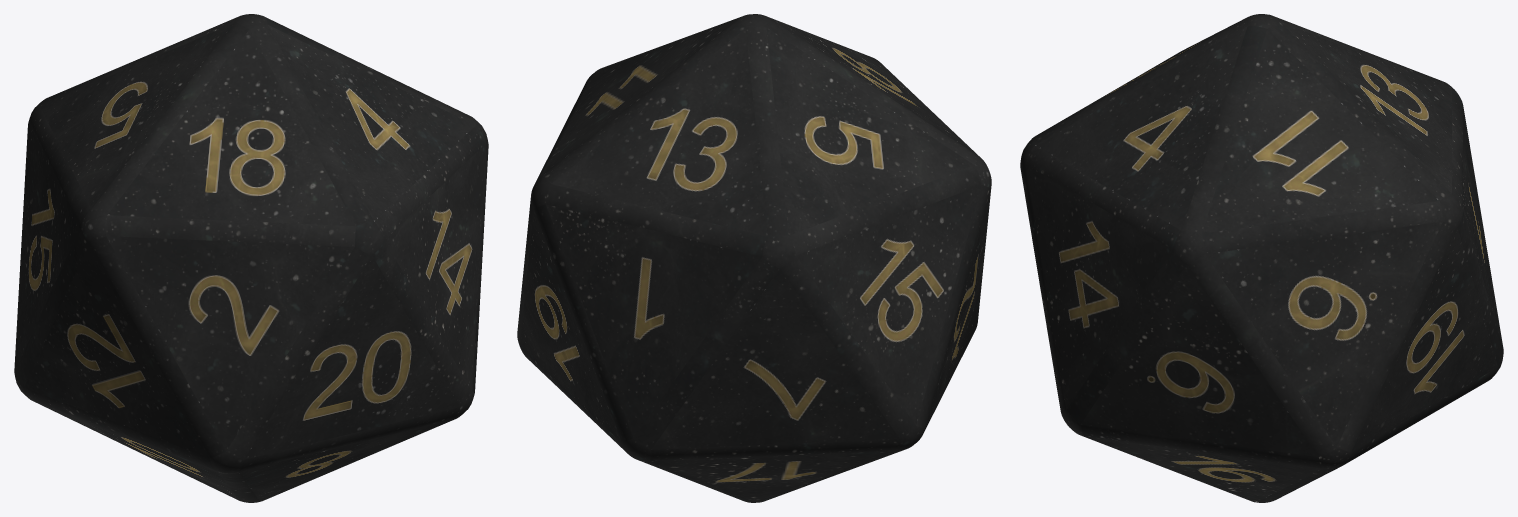
File: d20-obsidian.gltf
3 renders of one model, left to right at view 1: azimuth 30°, elevation 25°; view 2: azimuth 150°, elevation 25°; view 3: azimuth 270°, elevation 25°, orthographic.
Parts seen in each view (by area): view 1: d20_obsidian; view 2: d20_obsidian; view 3: d20_obsidian.
Part boxes in pixels (x1=…): d20_obsidian: x1=14, y1=14, x2=488, y2=502; d20_obsidian: x1=517, y1=14, x2=991, y2=502; d20_obsidian: x1=1020, y1=14, x2=1503, y2=502.
Size of the model in its own units: 1.85 by 2.13 by 1.93.
Materials: 1 (1 with a texture image).
